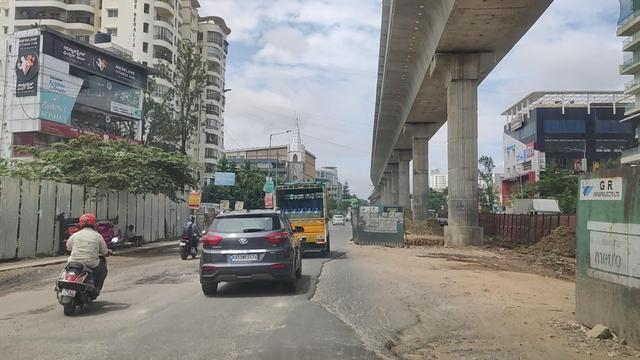LMV: (202, 212, 304, 300), (62, 212, 103, 315)
RoadDamages: (326, 306, 376, 358), (308, 268, 341, 306), (168, 263, 199, 286), (140, 270, 168, 290), (322, 252, 352, 267)
